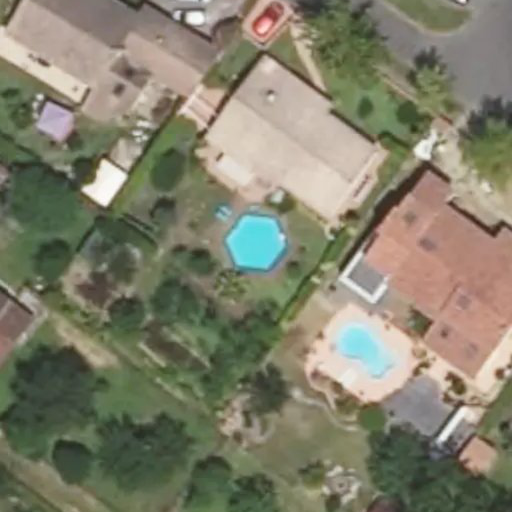pool: (219, 225, 292, 258)
